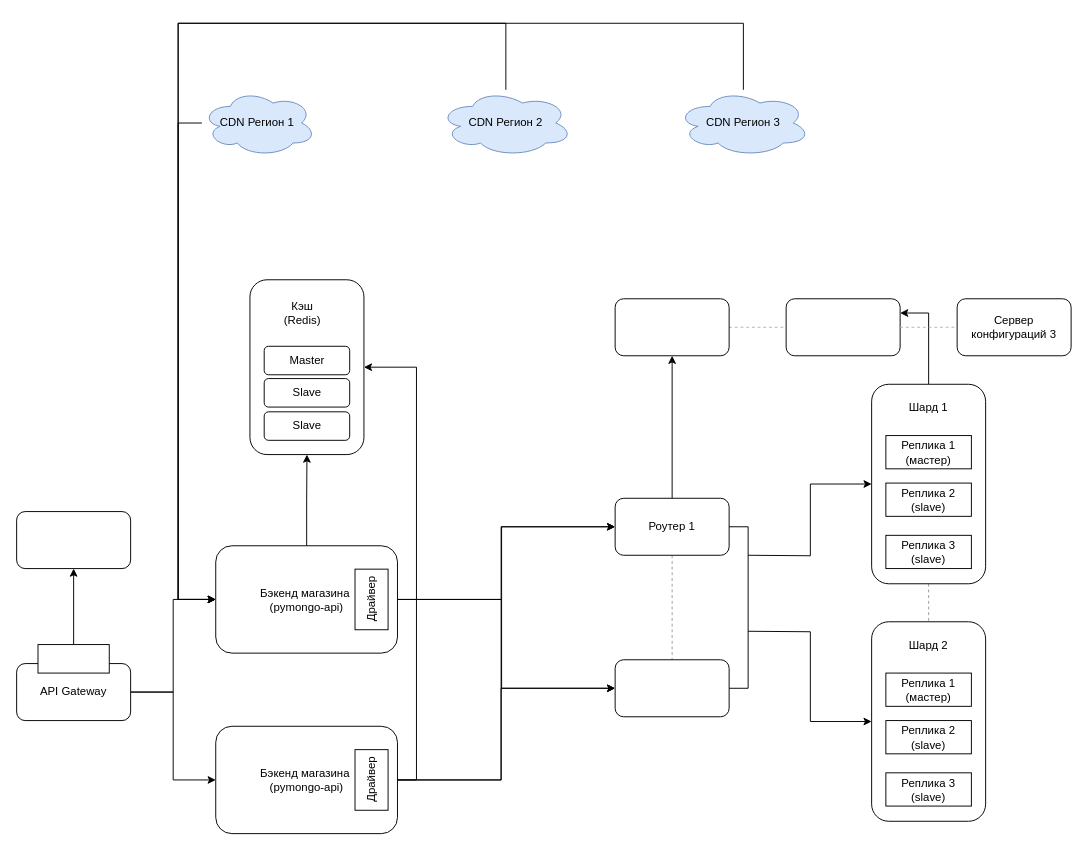
Image size: 1088x850. Some labels were removed from this diagram. The shapes that lost their labels are listed below. From the top down, each one's box as (x1, y1, x2, y2) in pixels, then its label:
(614, 298, 729, 356): Сервер конфигураций 1
(785, 298, 900, 356): Сервер конфигураций 2
(16, 511, 131, 569): Consul
(37, 644, 109, 673): consul_kv
(614, 659, 729, 717): Роутер 2
